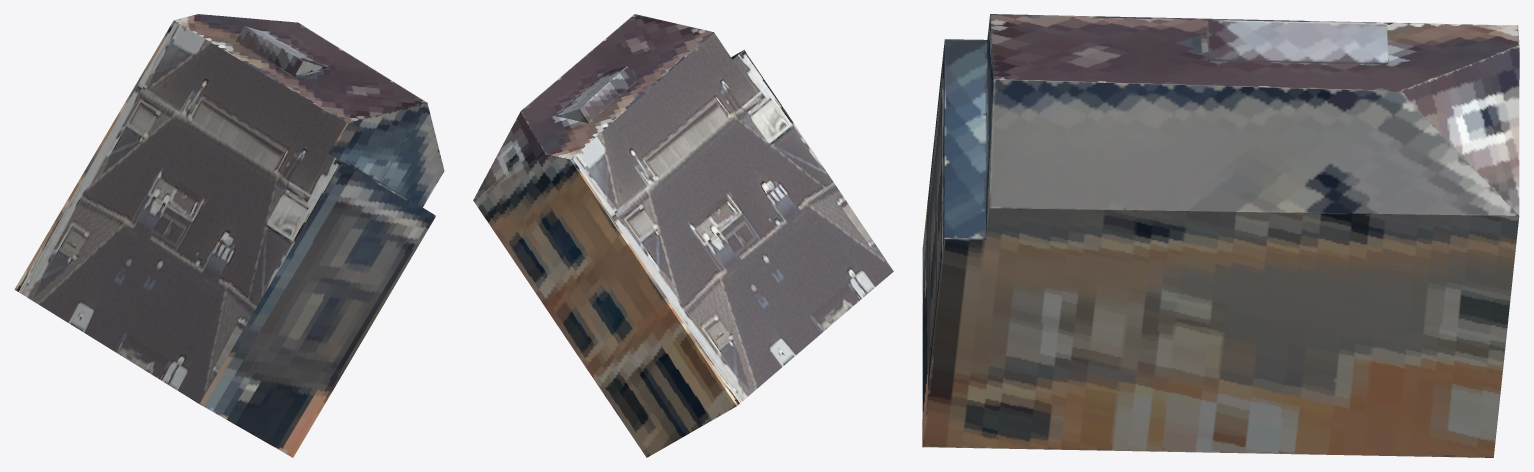
3 renders of one model, left to right at view 1: azimuth 30°, elevation 25°; view 2: azimuth 150°, elevation 25°; view 3: azimuth 270°, elevation 25°, orthographic. The views are drawn at different scales.
Visible parts, largest first — view 1: BAG_0599100000688754 (×4); view 2: BAG_0599100000688754 (×4); view 3: BAG_0599100000688754 (×4).
Part boxes in pixels (x1,y1,x2,y2): BAG_0599100000688754 (×4): (14,14,444,457); BAG_0599100000688754 (×4): (473,14,893,457); BAG_0599100000688754 (×4): (922,14,1519,457).
Size of the model in its own units: 11.3 by 12.56 by 12.98.
1 material, 1 textured.
